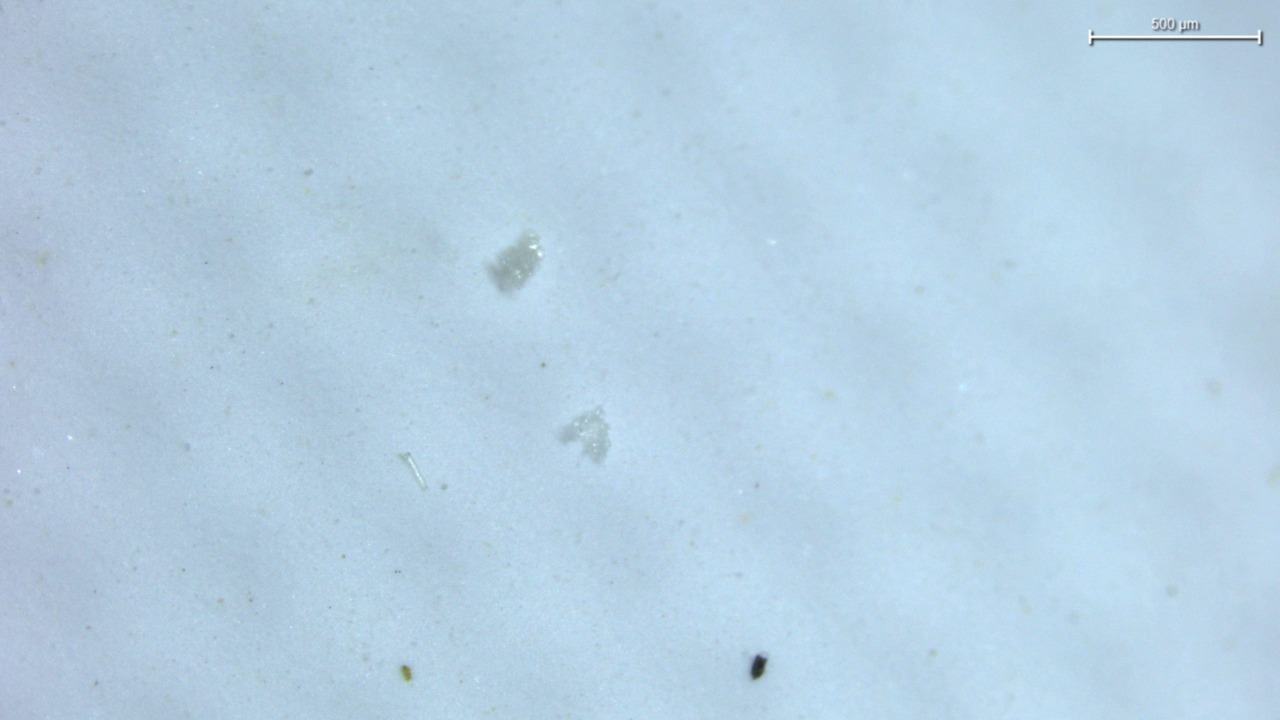microplastic_fragment: (487, 230, 543, 294), (558, 406, 610, 463), (399, 452, 427, 489)
